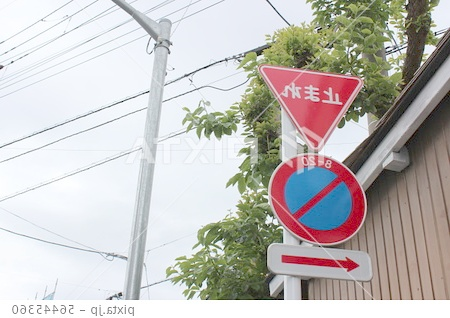Prohibition_sign: (260, 147, 364, 256)
